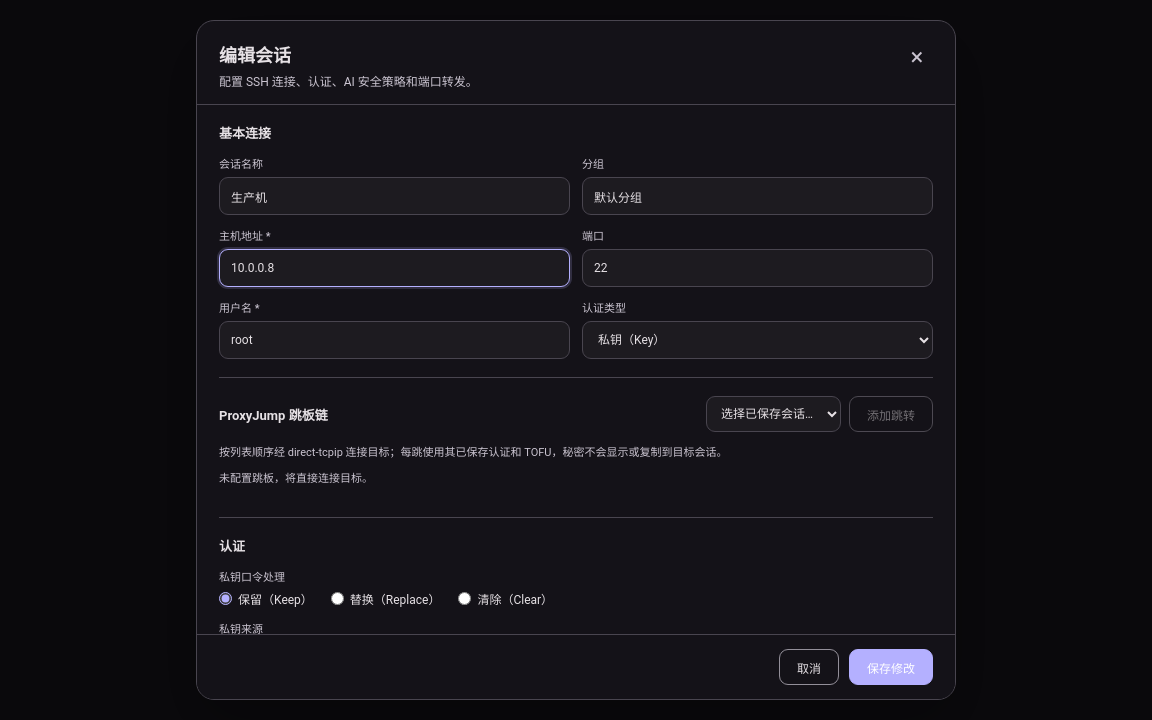
Test: NewSessionDialog 秘密 Keep / Replace / Clear › 从 Key 切到 Password 时必须填写新密码
Later steps or results of the test are not shown.
Step 1. Select "密码（Password）" in the dropdown labelled "认证类型" → (758, 340), box 582,321 -> 933,359
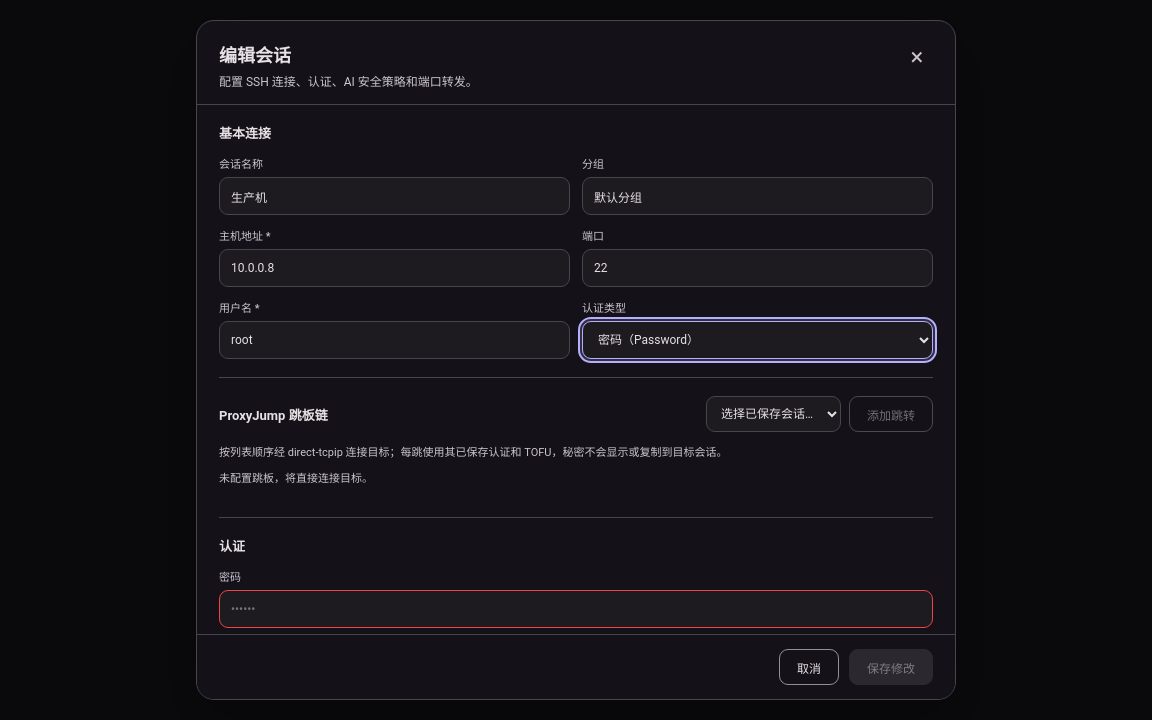
Check: the button "保存修改" is disabled, box 849,649 -> 933,685
